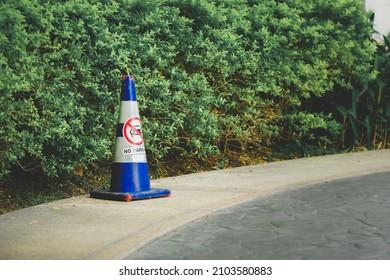No Parking: (126, 113, 151, 163)
